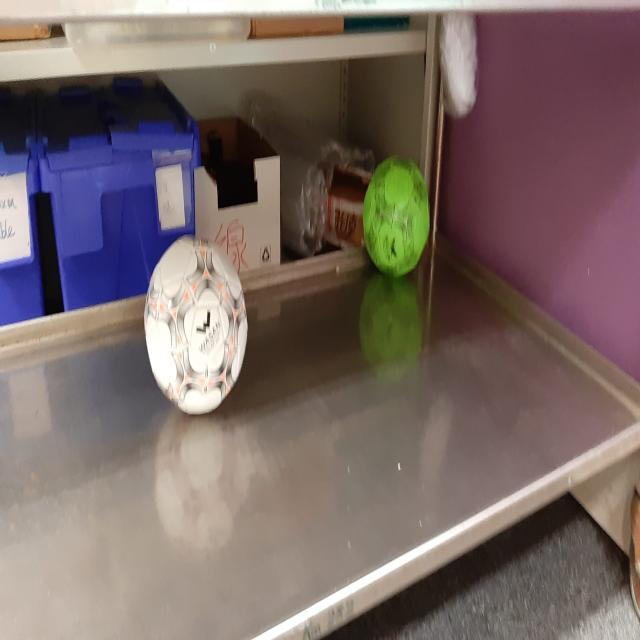ball: (144, 233, 248, 417), (364, 154, 431, 278)
